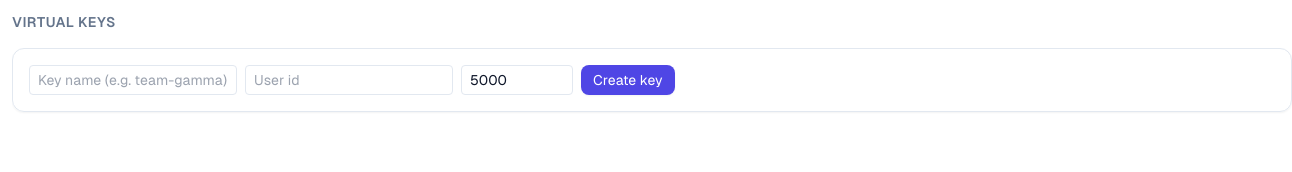
it: VirtualKeyPane › shows a clean message instead of a raw JSON blob when the backend returns a JSON error
This screenshot has width=1292, height=172.
In the field with placeholder "Key name (e.g. team-gamma)": (133, 80) [29, 65, 237, 95], type "team-gamma"
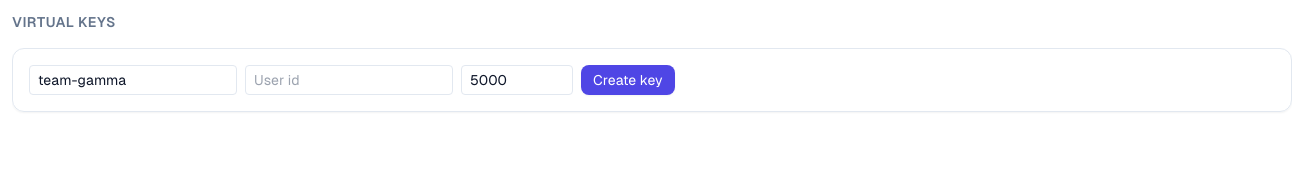
In the field with placeholder "User id": (349, 80) [245, 65, 453, 95], type "team-gamma"
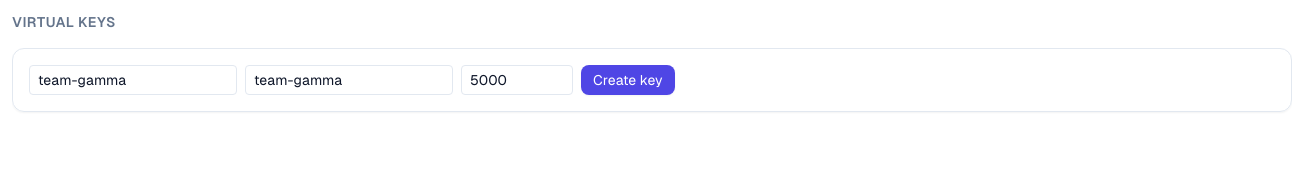
Click the button "Create key": (628, 80) [581, 65, 674, 95]
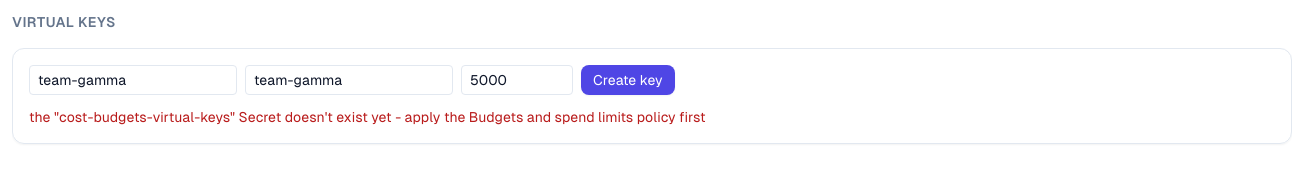
Expected: the text "the \"cost-budgets-virtual-keys\" Secret doesn't exist yet - apply the Budgets and spend limits policy first" is shown, [29, 109, 706, 125]
